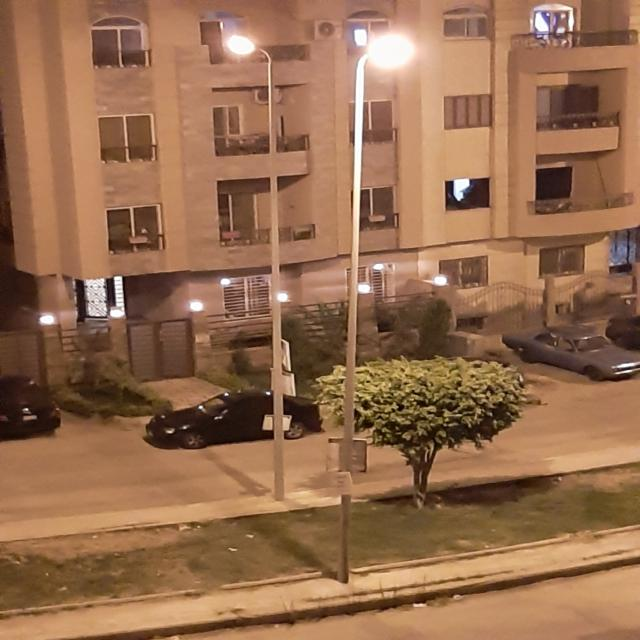Street Light: (334, 34, 416, 584), (223, 35, 287, 500)
